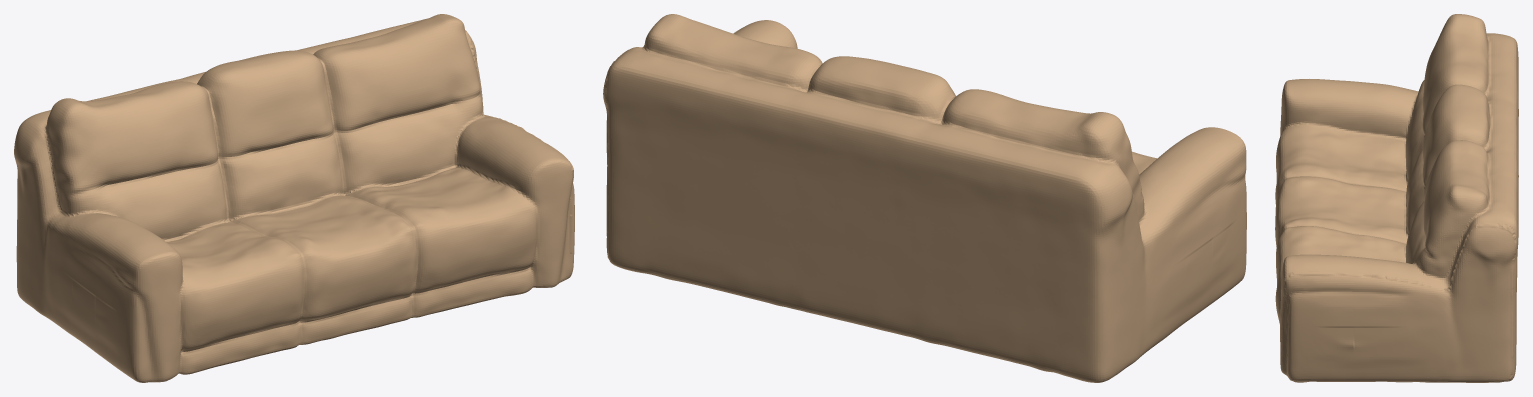
3 renders of one model, left to right at view 1: azimuth 30°, elevation 25°; view 2: azimuth 150°, elevation 25°; view 3: azimuth 270°, elevation 25°, orthographic. The views are drawn at different scales.
Visible parts, largest first — view 1: world; view 2: world; view 3: world.
Part boxes in pixels (box(x1,y1,x2,y2)): world: box(14, 14, 574, 382); world: box(603, 14, 1246, 382); world: box(1275, 14, 1518, 382).
Size of the model in its own units: 1.96 by 0.8755 by 1.01.
